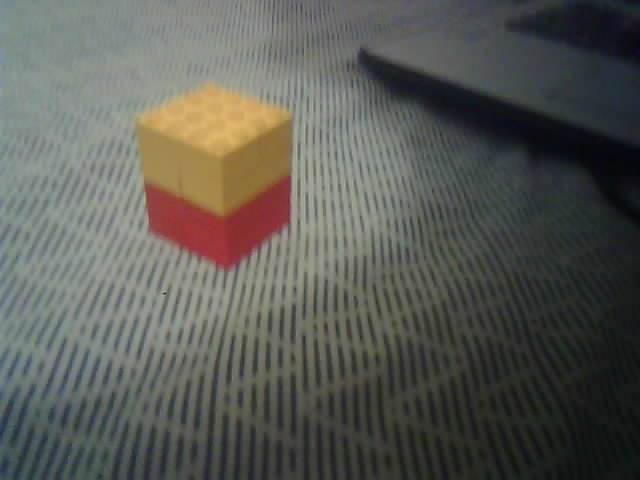lego: (134, 82, 295, 271)
